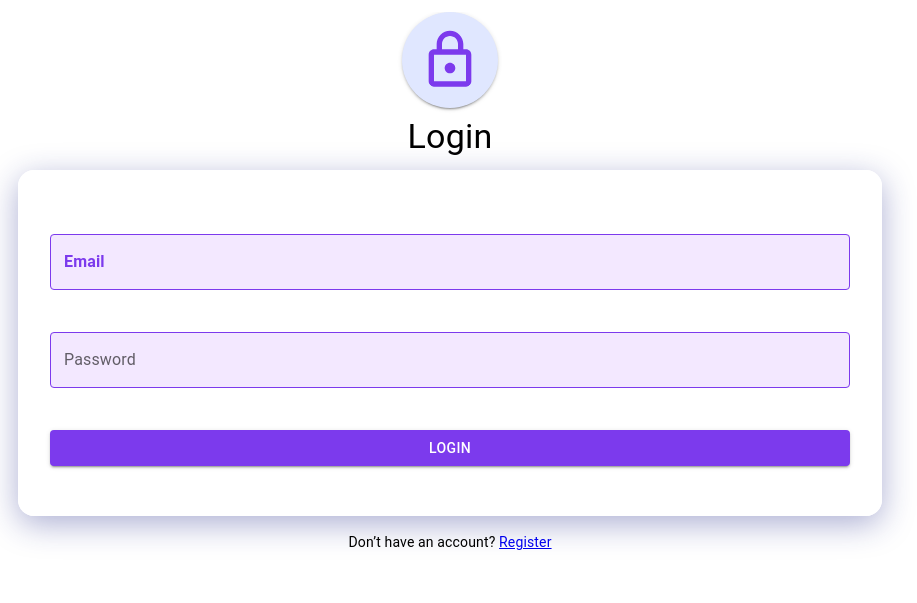
Test: Login Page › shows error if only password is filled
The image size is (917, 603).
Type "123456" into the password field labelled "Password" at (450,360), box 50,332 -> 850,388
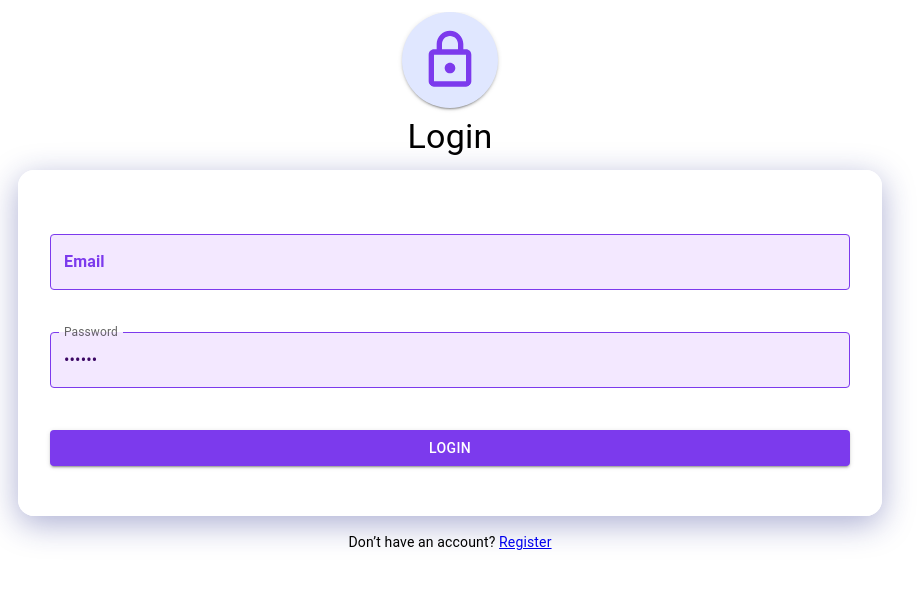
Click the button "Login" at (450,448), box 50,430 -> 850,466
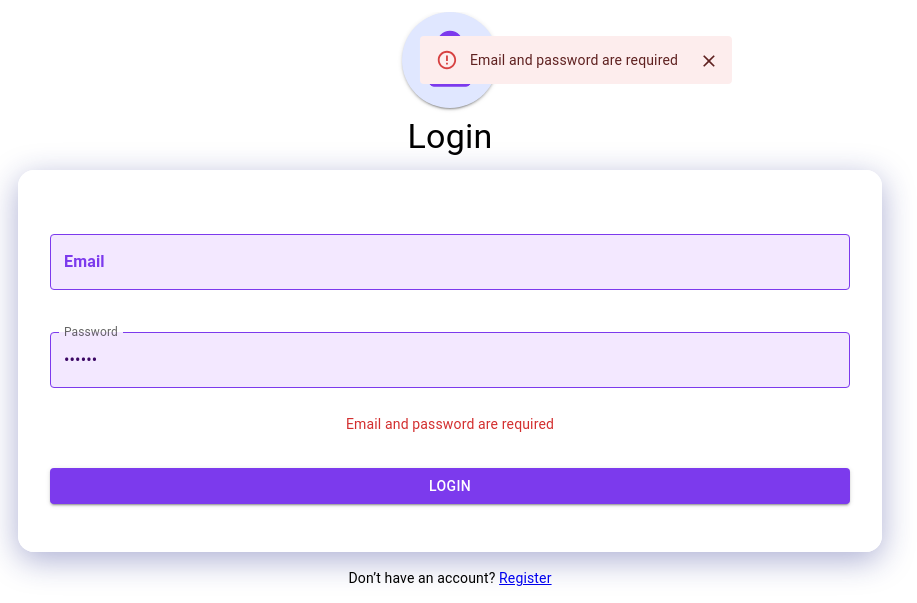
Expected: the 1st text "Email and password are required" is shown, 470,52 -> 678,68
